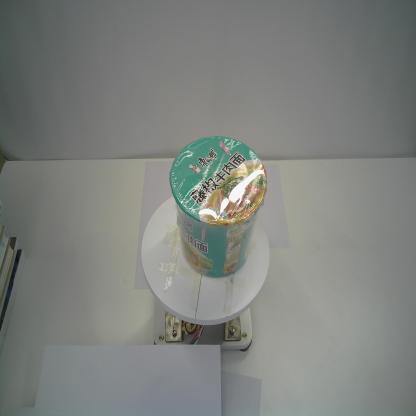Instant Noodles: (169, 135, 267, 279)
